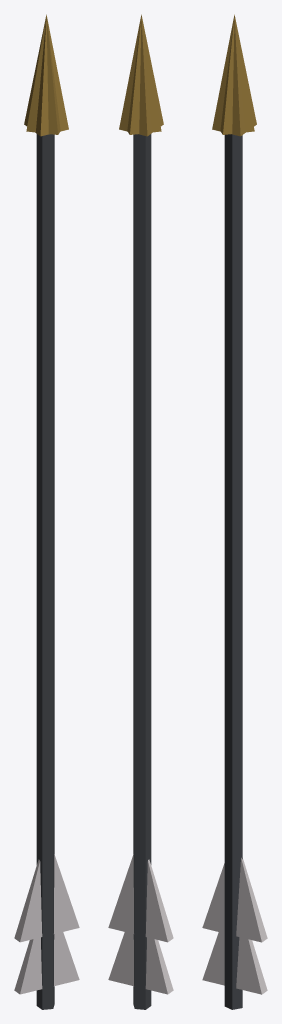
The model's file is _arrow_b_10.glb.
The picture shows the model from 3 angles, left to right: view 1: azimuth 30°, elevation 25°; view 2: azimuth 150°, elevation 25°; view 3: azimuth 330°, elevation 25°; orthographic projection.
Parts seen in each view (by area): view 1: arrow_b_10; view 2: arrow_b_10; view 3: arrow_b_10.
Boxes of the visible parts, x1,y1,x2,y2 form: arrow_b_10: (14, 14, 79, 1009); arrow_b_10: (108, 14, 173, 1009); arrow_b_10: (202, 14, 267, 1009).
Bounding box in the file's own units: 1243 × 19733 × 838.
1 material, 1 textured.
